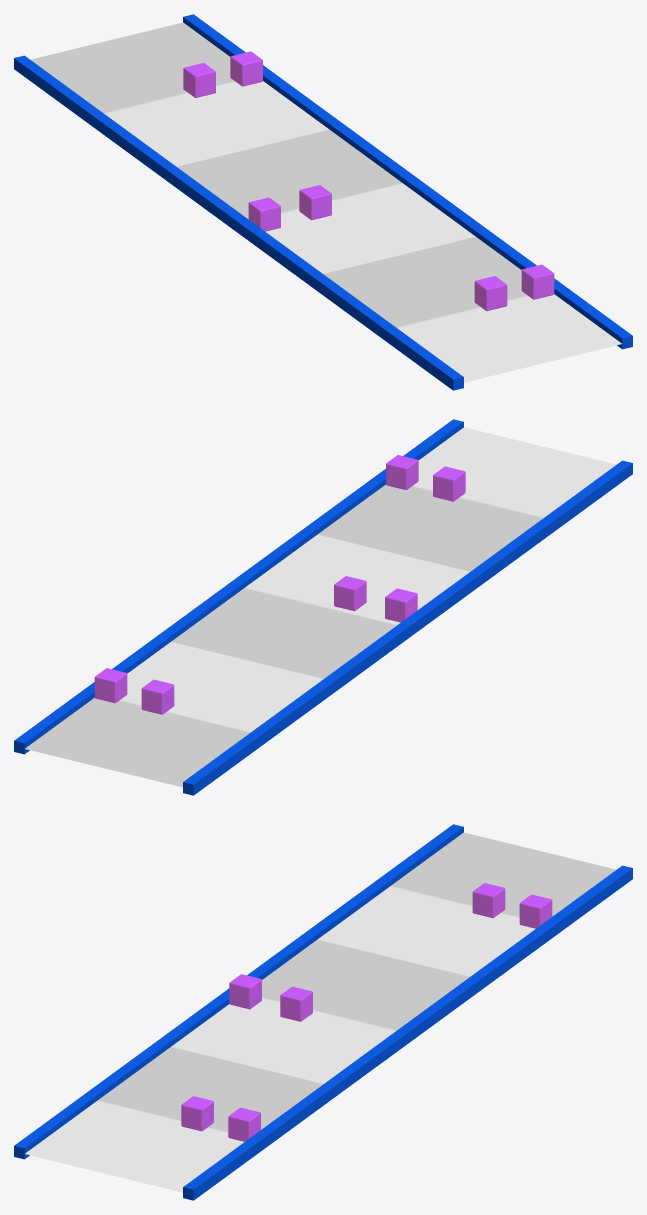
Rendered from Module_03.fbx.
3 views of the same model, one above another, from view 1: azimuth 30°, elevation 25°; view 2: azimuth 150°, elevation 25°; view 3: azimuth 330°, elevation 25° (orthographic).
Parts seen in each view (by area): view 1: Road (2), Road, Road (1), Fence (2), Fence (1), Box (×6); view 2: Road, Road (2), Road (1), Fence (2), Fence (1), Box (×6); view 3: Road (1), Road (2), Road, Fence (1), Fence (2), Box (×6).
Part boxes in pixels (x1,y1,x2,y2): Road (2): [323, 237, 621, 382]; Road: [30, 22, 328, 166]; Road (1): [177, 129, 475, 273]; Fence (2): [14, 55, 463, 390]; Fence (1): [183, 14, 632, 349]; Box (×6): [183, 51, 554, 311]; Road: [25, 642, 323, 787]; Road (2): [318, 427, 616, 571]; Road (1): [171, 534, 469, 678]; Fence (2): [183, 460, 632, 795]; Fence (1): [14, 419, 463, 754]; Box (×6): [94, 455, 465, 714]; Road (1): [171, 939, 469, 1083]; Road (2): [25, 1047, 323, 1192]; Road: [318, 832, 616, 976]; Fence (1): [183, 865, 632, 1200]; Fence (2): [14, 824, 463, 1159]; Box (×6): [181, 883, 552, 1141].
Bounding box in the file's own units: 17 × 2.51 × 72.
Materials: 3 (1 with a texture image).
